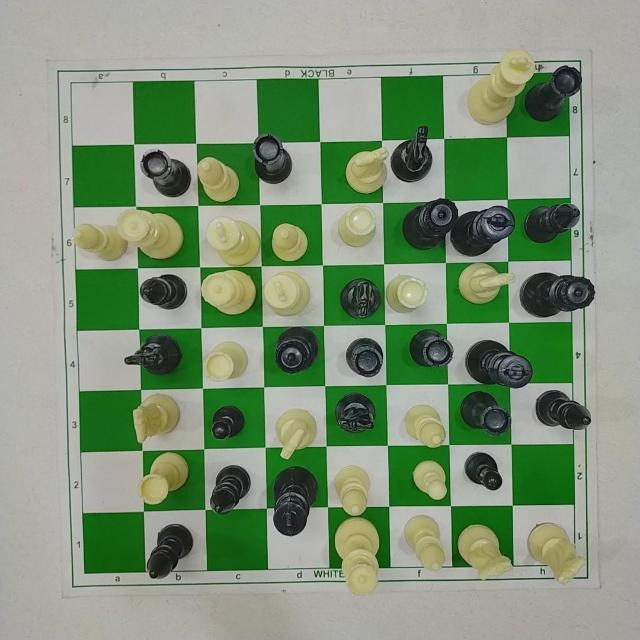black-bishop: (145, 523, 193, 582), (535, 388, 592, 434), (524, 203, 586, 242), (208, 467, 253, 517), (139, 270, 187, 312)
black-king: (270, 462, 318, 537), (453, 205, 516, 257), (466, 339, 532, 388)
black-knight: (389, 124, 438, 182), (124, 330, 182, 376), (333, 392, 383, 438), (337, 275, 385, 321)
black-pawn: (459, 445, 507, 497), (208, 400, 247, 446)
black-queen: (521, 274, 595, 316), (403, 195, 457, 249), (272, 325, 320, 378)
black-rook: (522, 64, 580, 120), (143, 150, 195, 198), (458, 391, 510, 436), (252, 133, 296, 183), (343, 336, 387, 382), (407, 329, 453, 372)
white-bishop: (401, 511, 449, 575), (69, 221, 129, 263), (401, 403, 453, 448), (331, 462, 372, 515), (198, 155, 240, 204), (268, 221, 310, 263)
white-king: (464, 53, 532, 125), (203, 216, 262, 264), (264, 267, 312, 320)
white-knight: (527, 521, 588, 583), (455, 522, 516, 582), (271, 407, 322, 459), (456, 261, 511, 307), (128, 395, 180, 442), (345, 148, 392, 196)
white-pawn: (407, 456, 449, 502)
white-queen: (334, 515, 383, 594), (120, 209, 186, 261), (199, 267, 260, 319)
white-rook: (139, 450, 189, 507), (332, 204, 380, 252), (202, 340, 247, 384), (386, 271, 428, 317)
